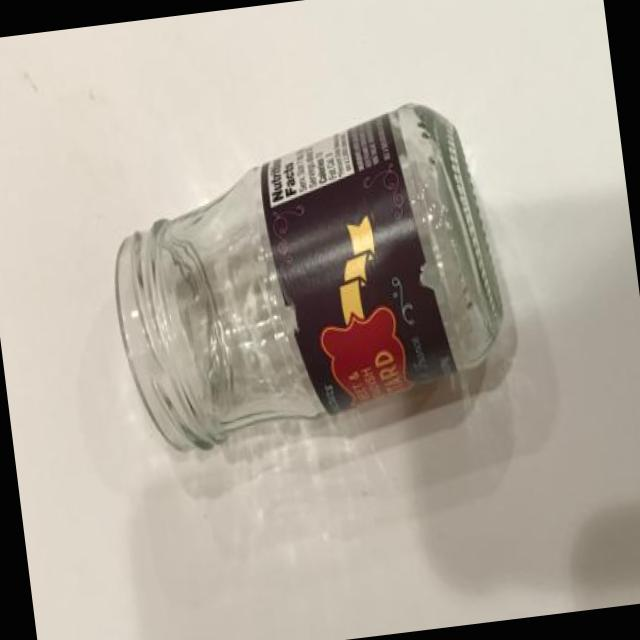chai_thuy_tinh: (113, 104, 507, 453)
